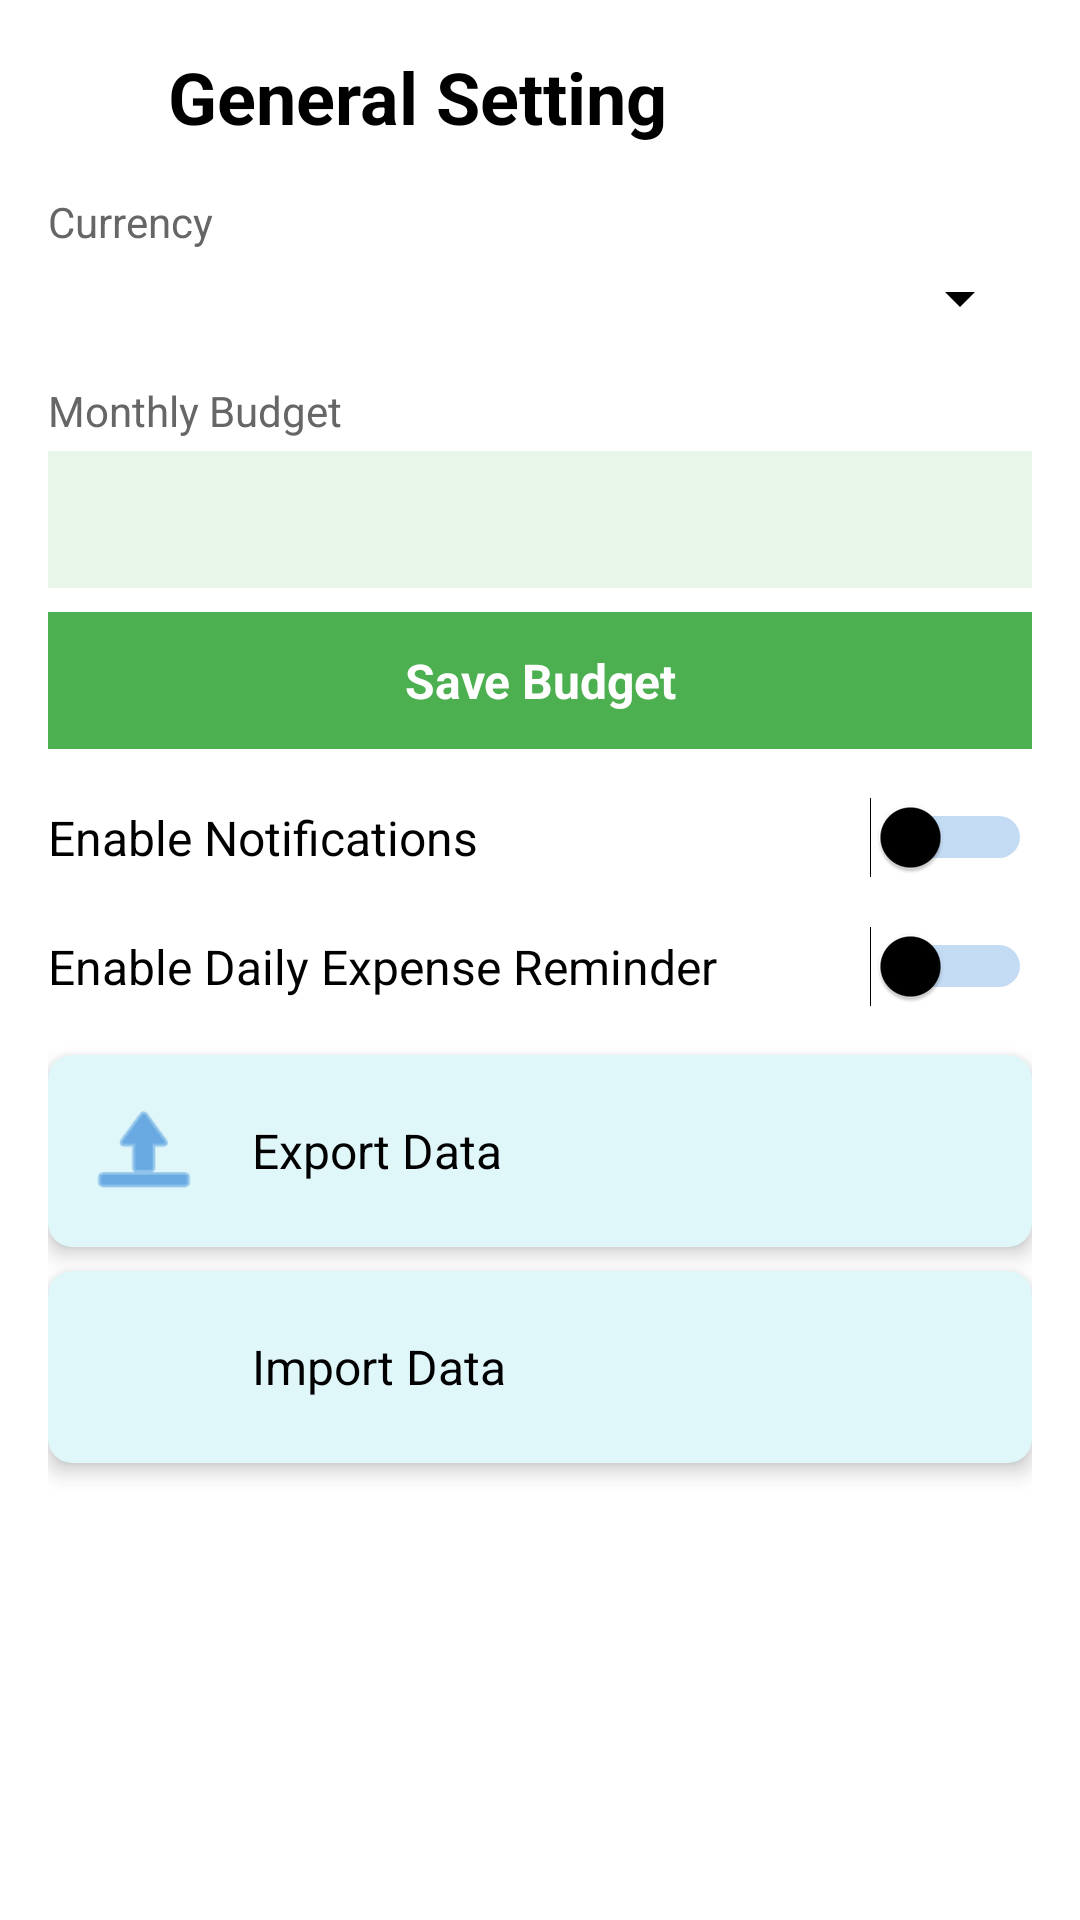

Icons on this 1080px x 1920px Android screen, each with its box as {"x1": x1, "y1": y1, "x2": x2, "y2": y2}:
upload: {"x1": 98, "y1": 1111, "x2": 190, "y2": 1188}
